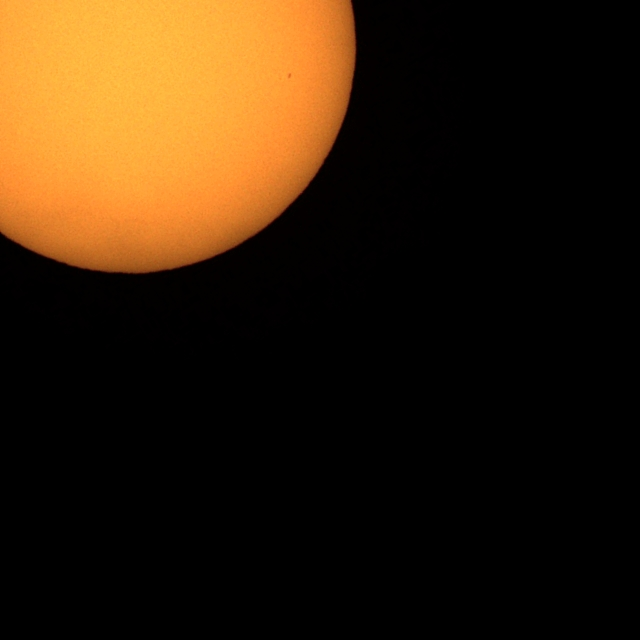sunspot: (286, 72, 292, 80)
